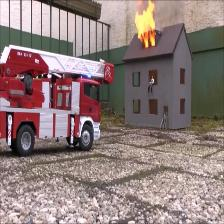fire: (133, 3, 159, 50)
